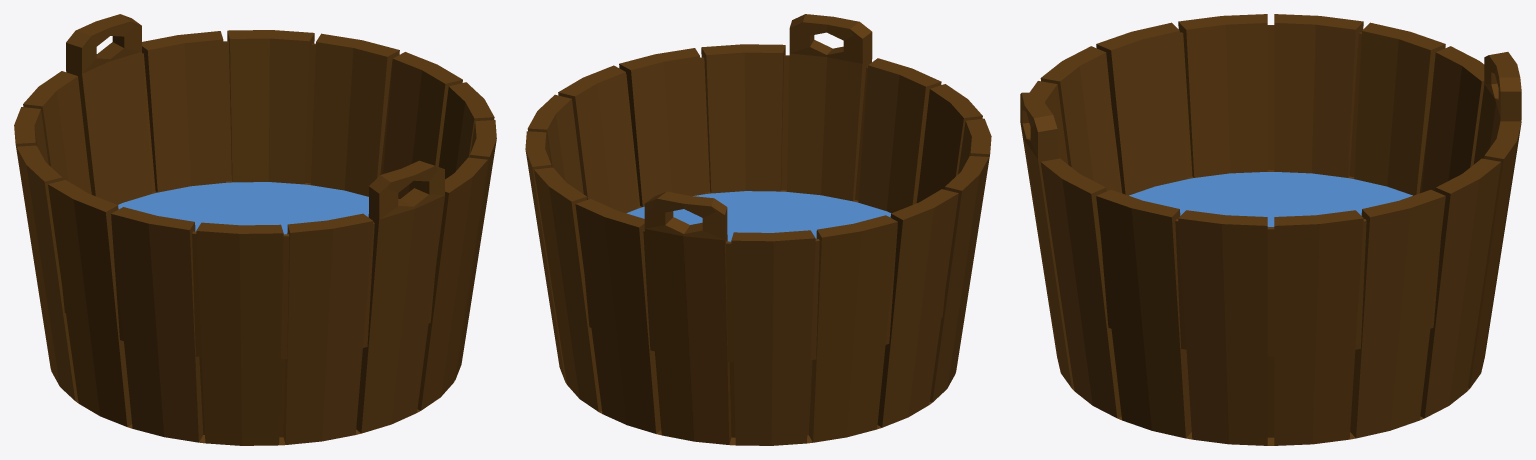
The model's file is bucket.fbx.
The picture shows the model from 3 angles, left to right: view 1: azimuth 30°, elevation 25°; view 2: azimuth 150°, elevation 25°; view 3: azimuth 270°, elevation 25°; orthographic projection. The views are drawn at different scales.
Parts seen in each view (by area): view 1: bucket; view 2: bucket; view 3: bucket.
Part boxes in pixels (x1,y1,x2,y2): bucket: (14,14,496,445); bucket: (525,14,991,445); bucket: (1020,14,1521,445).
Bounding box in the file's own units: 98.74 × 58.77 × 98.74.
